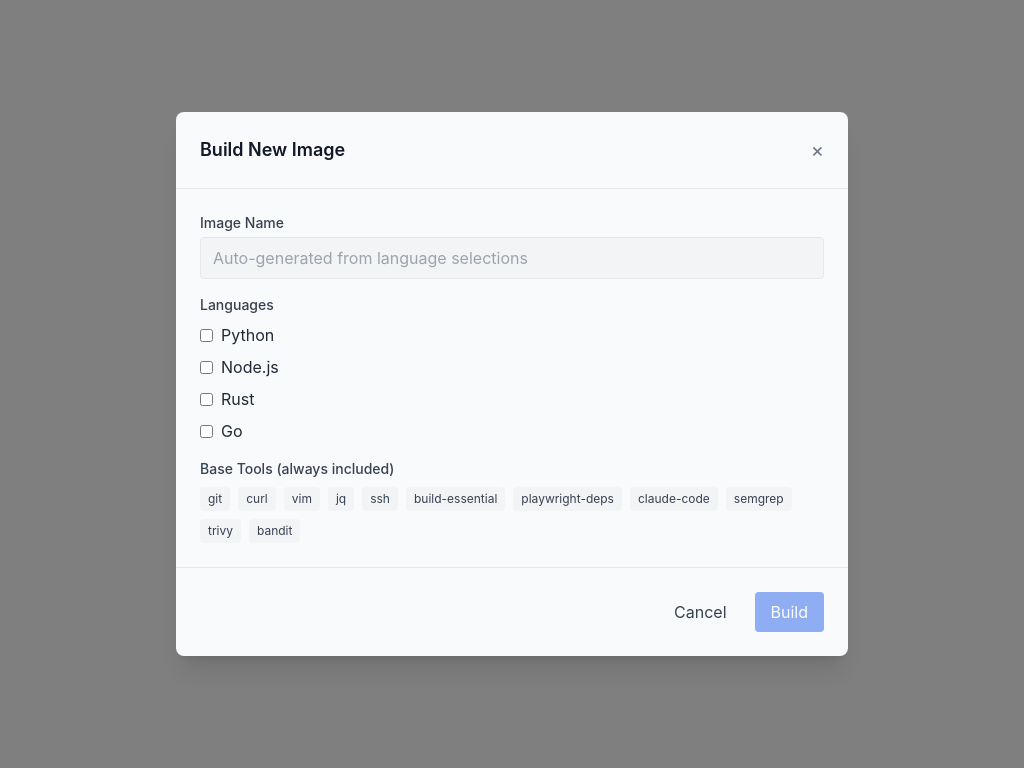
Test case: ImageBuilderDialog › shows success message after successful build
This screenshot has width=1024, height=768.
Click the checkbox labelled "Python": (206, 335) x1=200 y1=328 x2=213 y2=342
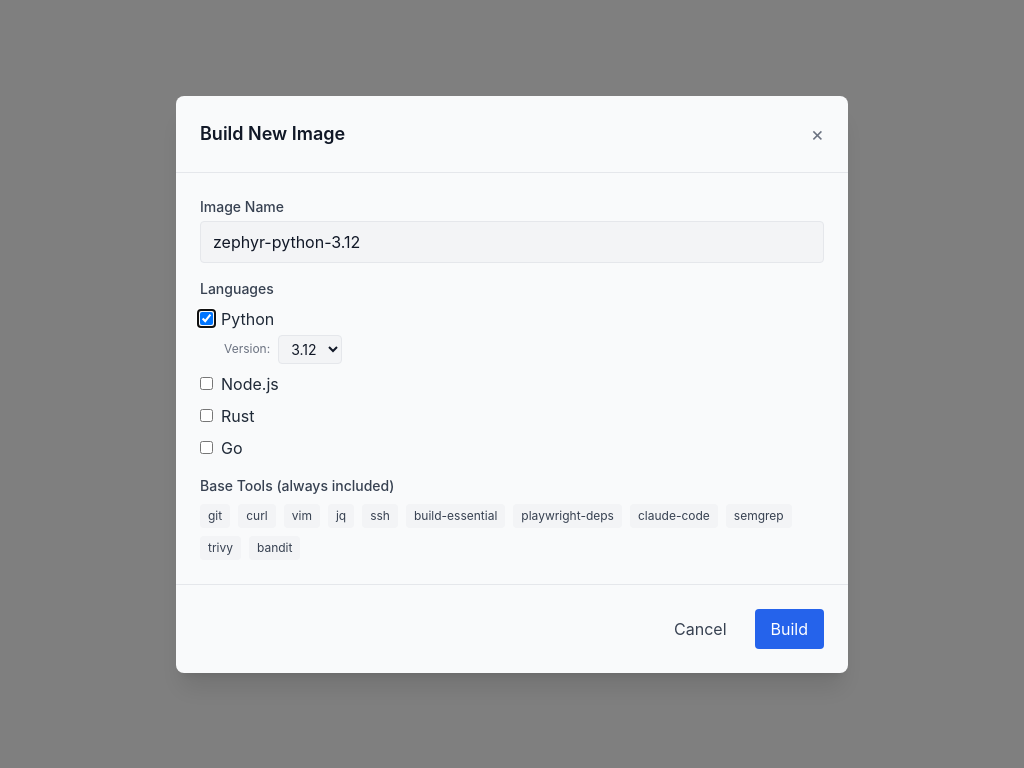
Click the button "Build": (789, 628) x1=754 y1=608 x2=824 y2=648
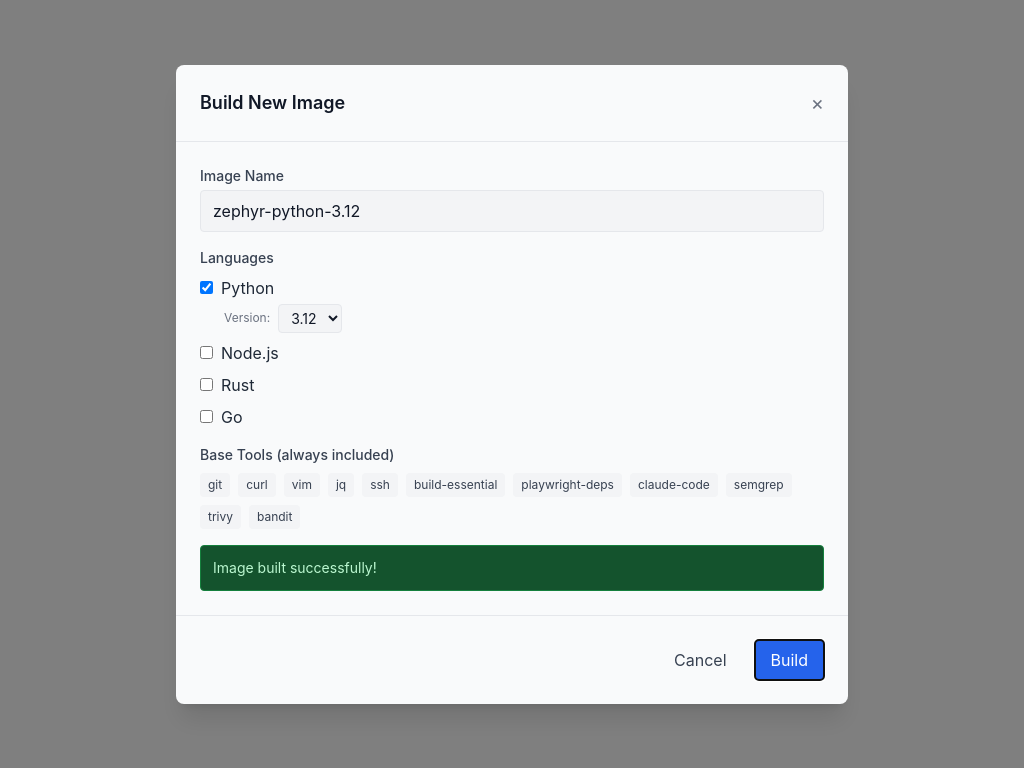
Now the text "Image built successfully!" is shown, box x1=200 y1=544 x2=824 y2=590
